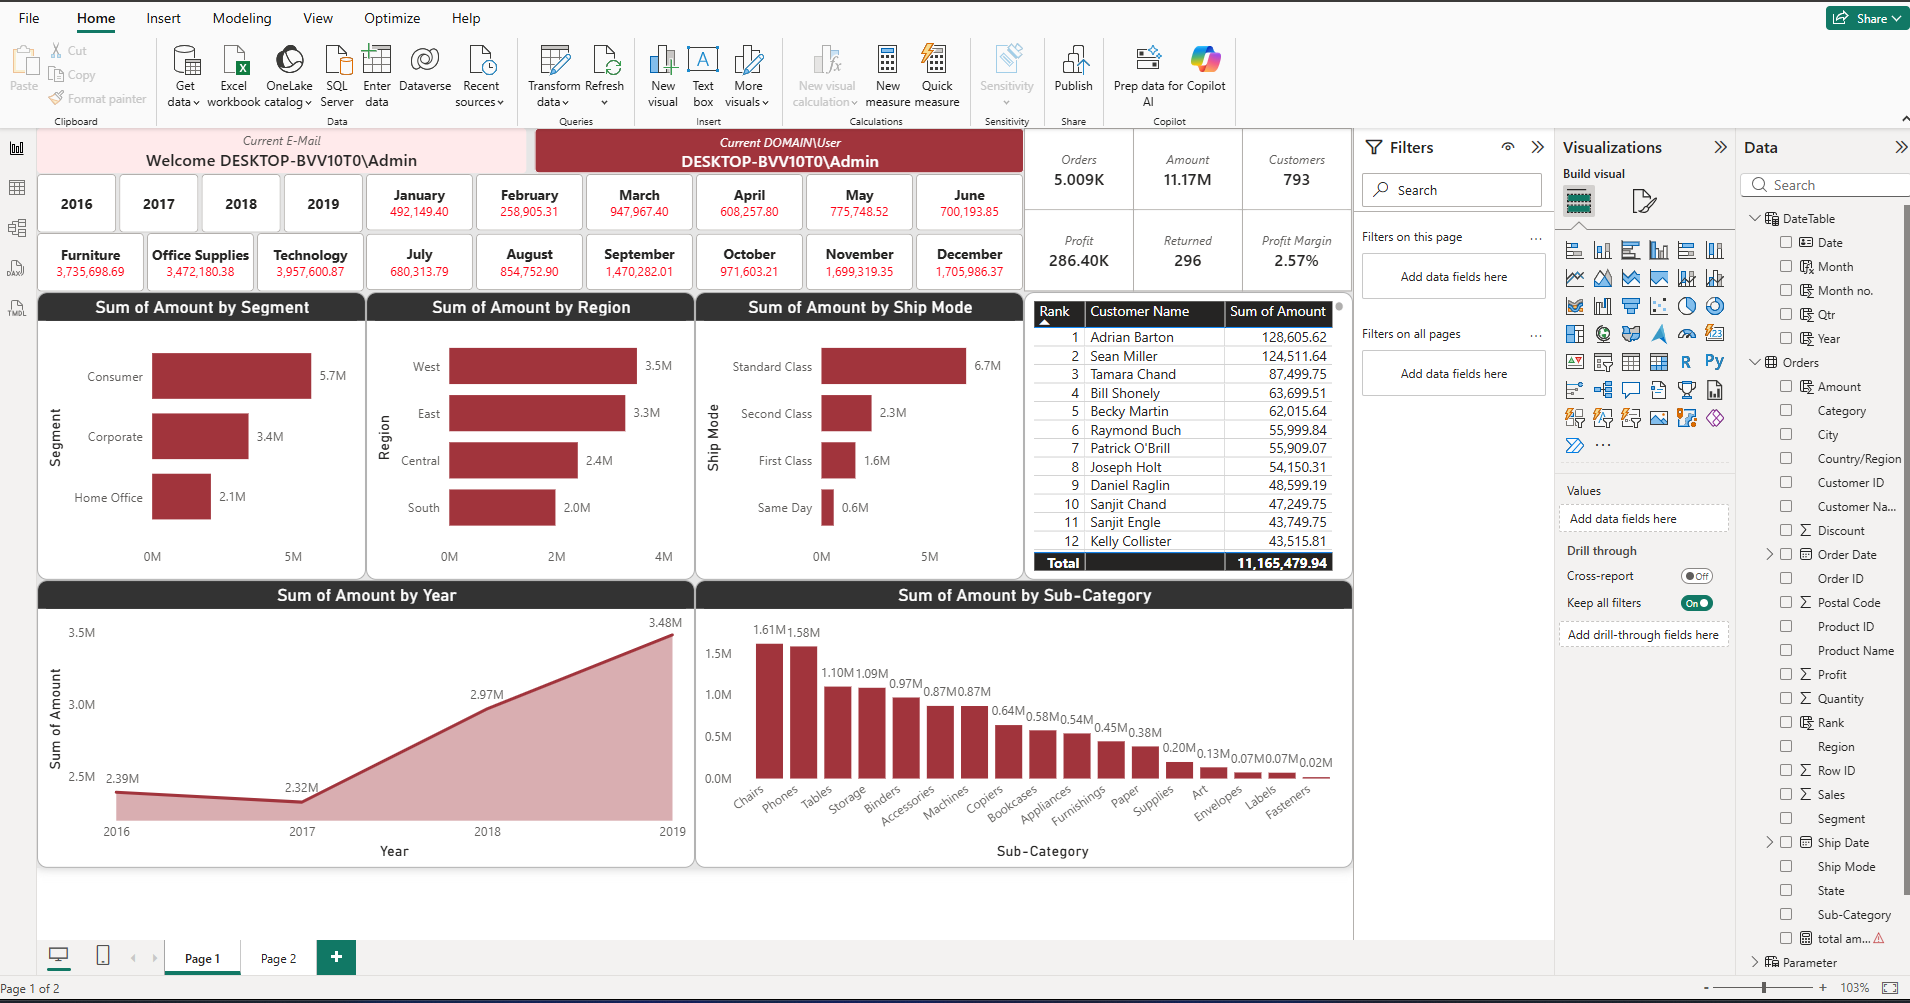

Layout of this report page (visuals, bound fields, positions):
{"tool":"powerbi","page":{"name":"Page 1","canvas":[1280,720],"ordinal":0},"visuals":[{"type":"areaChart","fields":{"Y":["Sum(Orders.Amount)"],"Category":["Orders.Order Date.Variation.Date Hierarchy.Year","Orders.Order Date.Variation.Date Hierarchy.Quarter","Orders.Order Date.Variation.Date Hierarchy.Month","Orders.Order Date.Variation.Date Hierarchy.Day"]},"box":[0,439.6,640,280.1],"z":0},{"type":"clusteredColumnChart","fields":{"Y":["Sum(Orders.Amount)"],"Category":["Orders.Sub-Category"]},"box":[640,439.6,640,280.1],"z":1000},{"type":"clusteredBarChart","fields":{"Y":["Sum(Orders.Amount)"],"Category":["Orders.Segment"]},"box":[0,159.5,320,280.1],"z":2000},{"type":"clusteredBarChart","fields":{"Y":["Sum(Orders.Amount)"],"Category":["People.Region"]},"box":[320,159.5,320,280.1],"z":3000},{"type":"clusteredBarChart","fields":{"Y":["Sum(Orders.Amount)"],"Category":["Orders.Ship Mode"]},"box":[640,159.5,320,280.1],"z":5000},{"type":"cardVisual","fields":{"Data":["People.Current E-Mail","People.Current DOMAIN\\User"]},"box":[0,0,960,44.7],"z":6000},{"type":"advancedSlicerVisual","fields":{"Label":["Sum(Orders.Amount)"],"Values":["Orders.Order Date.Variation.Date Hierarchy.Month"]},"box":[320,44.7,640,114.8],"z":7000},{"type":"advancedSlicerVisual","fields":{"Values":["Orders.Order Date.Variation.Date Hierarchy.Year"]},"box":[0,44.7,320,57.4],"z":8000},{"type":"advancedSlicerVisual","fields":{"Values":["Orders.Category"],"Label":["Sum(Orders.Amount)"]},"box":[0,102.1,320,57.4],"z":9000},{"type":"cardVisual","fields":{"Data":["Count(Orders.Order ID)","Sum(Orders.Amount)","Count(Orders.Customer ID)","Sum(Orders.Profit)","CountNonNull(Returns.Returned)","People.Profit Margin"]},"box":[960,0,320,159.5],"z":10000},{"type":"tableEx","fields":{"Values":["Sum(Orders.List Amount Rank)","Orders.Customer Name","Sum(Orders.Amount)"]},"box":[960,159.5,320,280.1],"z":11000}]}

Visuals, with their boxes on the page's 1280x720 design canvas (x1, y1, x2, y2). These are canvas units, not pixel positions in the 1910x1003 screenshot, which may show the page scaled, cropped or inside an application window:
areaChart - Sum(Orders.Amount) x Orders.Order Date.Variation.Date Hierarchy.Year: [x1=0, y1=440, x2=640, y2=720]
clusteredColumnChart - Sum(Orders.Amount) x Orders.Sub-Category: [x1=640, y1=440, x2=1280, y2=720]
clusteredBarChart - Sum(Orders.Amount) x Orders.Segment: [x1=0, y1=160, x2=320, y2=440]
clusteredBarChart - Sum(Orders.Amount) x People.Region: [x1=320, y1=160, x2=640, y2=440]
clusteredBarChart - Sum(Orders.Amount) x Orders.Ship Mode: [x1=640, y1=160, x2=960, y2=440]
cardVisual - People.Current E-Mail x People.Current DOMAIN\User: [x1=0, y1=0, x2=960, y2=45]
advancedSlicerVisual - Sum(Orders.Amount) x Orders.Order Date.Variation.Date Hierarchy.Month: [x1=320, y1=45, x2=960, y2=160]
advancedSlicerVisual - Orders.Order Date.Variation.Date Hierarchy.Year: [x1=0, y1=45, x2=320, y2=102]
advancedSlicerVisual - Orders.Category x Sum(Orders.Amount): [x1=0, y1=102, x2=320, y2=160]
cardVisual - Count(Orders.Order ID) x Sum(Orders.Amount): [x1=960, y1=0, x2=1280, y2=160]
tableEx - Sum(Orders.List Amount Rank) x Orders.Customer Name: [x1=960, y1=160, x2=1280, y2=440]
